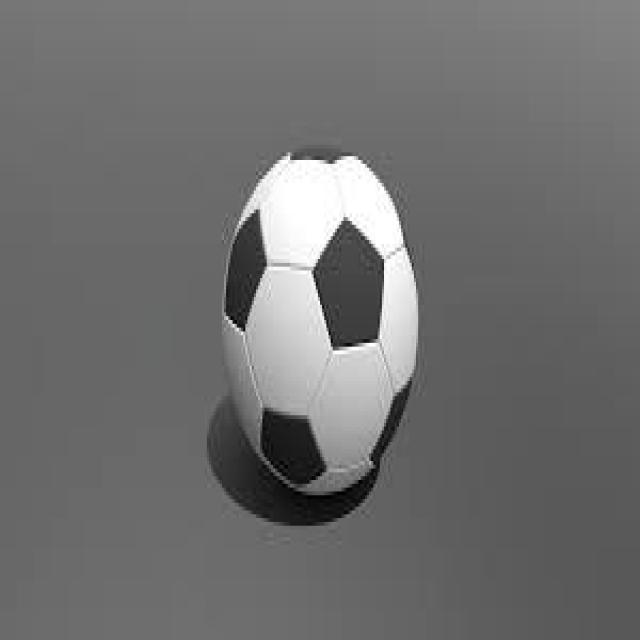Soccer Ball: (222, 145, 414, 503)
